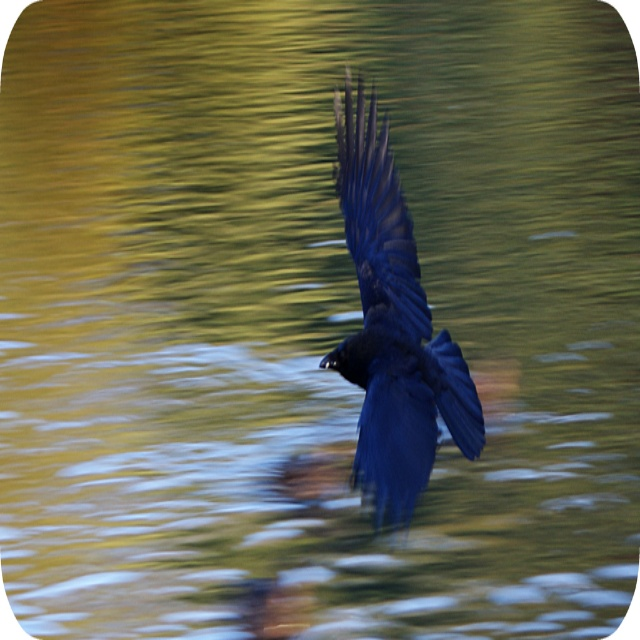Raven: (297, 93, 501, 516)
